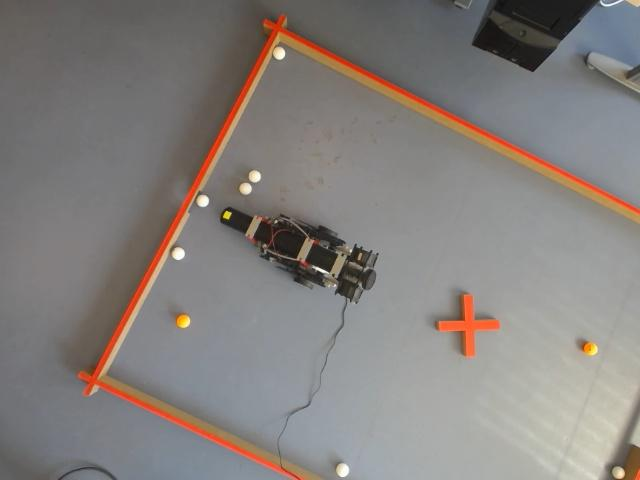orange: (176, 314, 191, 329), (583, 342, 598, 356)
robot: (221, 207, 379, 304)
robot-front: (221, 207, 249, 231)
white: (612, 466, 626, 480), (335, 463, 349, 477), (172, 247, 185, 261), (196, 194, 209, 207), (248, 170, 261, 183), (274, 47, 286, 60), (239, 183, 252, 195)
